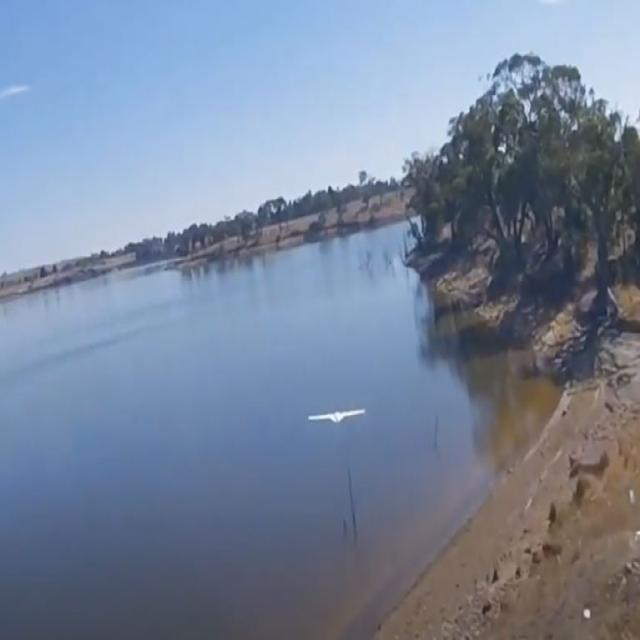iha: (307, 408, 366, 425)
